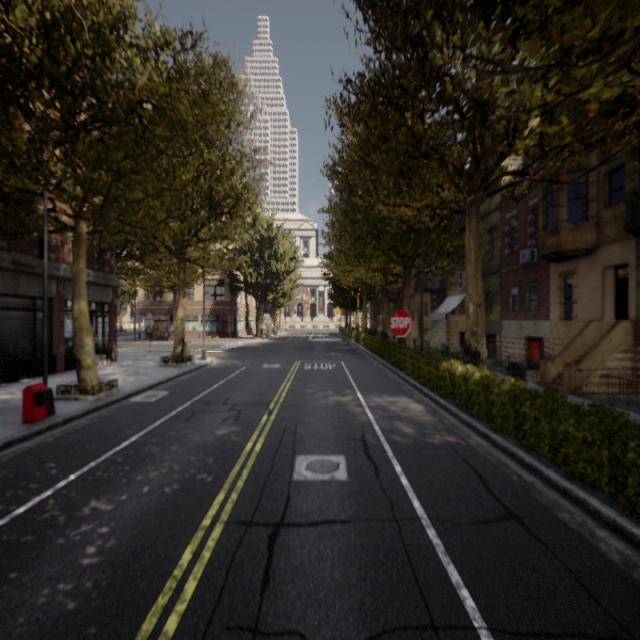stop sign: (387, 306, 413, 339)
